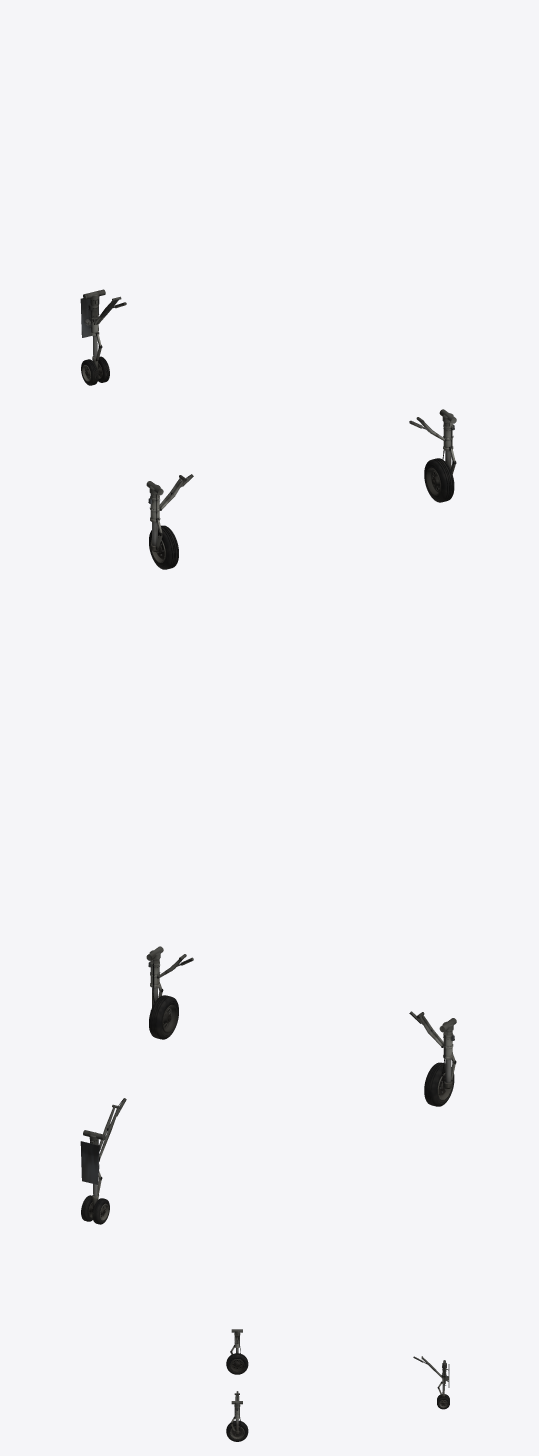
File: f4_gear.glb
3 views of the same model, one above another, from view 1: azimuth 30°, elevation 25°; view 2: azimuth 150°, elevation 25°; view 3: azimuth 270°, elevation 25° (orthographic). The views are drawn at different scales.
Visible parts, largest first — view 1: gear_n, gear_w_r, gear_w_l, gear_m_l, gear_m_r; view 2: gear_n, gear_w_r, gear_w_l, gear_m_l; view 3: gear_n, gear_w_l, gear_w_r, gear_m_r.
Part boxes in pixels (x1,y1,x2,y2): gear_n: (80, 289, 109, 385); gear_w_r: (424, 458, 454, 502); gear_w_l: (149, 525, 178, 569); gear_m_l: (146, 481, 163, 551); gear_m_r: (432, 409, 456, 483); gear_n: (80, 1130, 109, 1224); gear_w_r: (149, 995, 178, 1039); gear_w_l: (424, 1062, 454, 1106); gear_m_l: (439, 1018, 456, 1088); gear_n: (437, 1360, 449, 1409); gear_w_l: (226, 1353, 248, 1374); gear_w_r: (226, 1420, 248, 1441); gear_m_r: (230, 1400, 242, 1434).
Bounding box in the file's own units: 6.17 × 5.97 × 17.87.
1 material, 1 textured.
